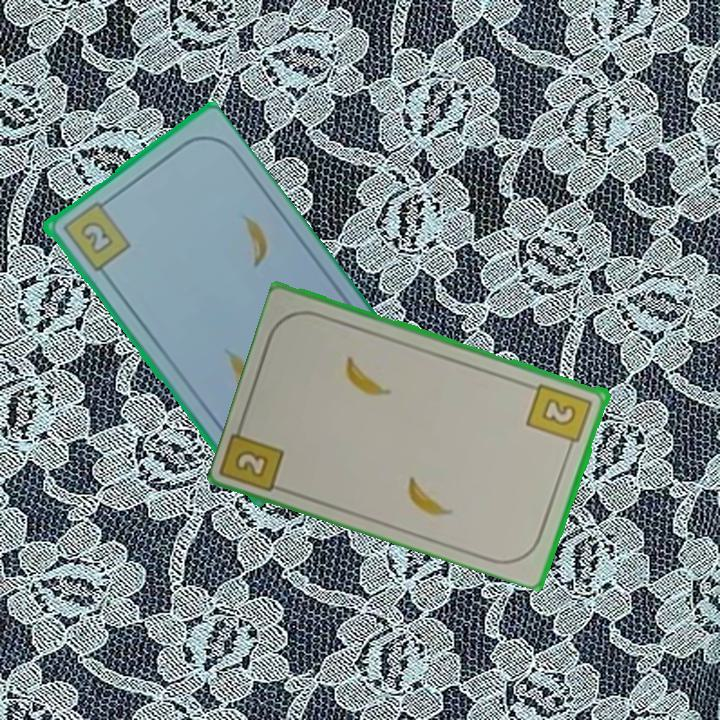2b: (58, 195, 133, 274), (524, 380, 596, 453), (231, 446, 272, 481)
